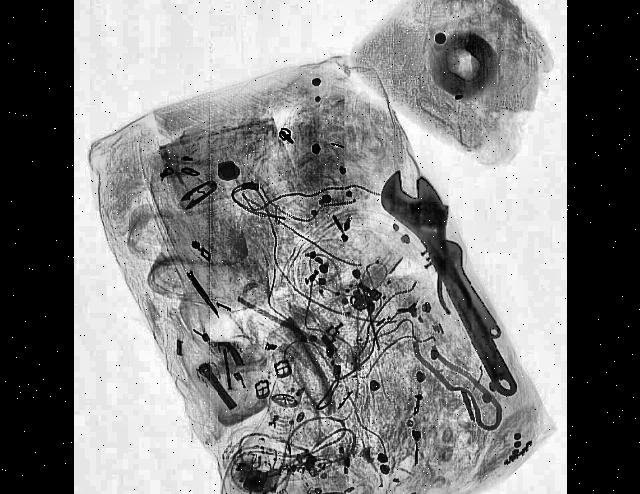Wrench: (372, 149, 538, 418)
